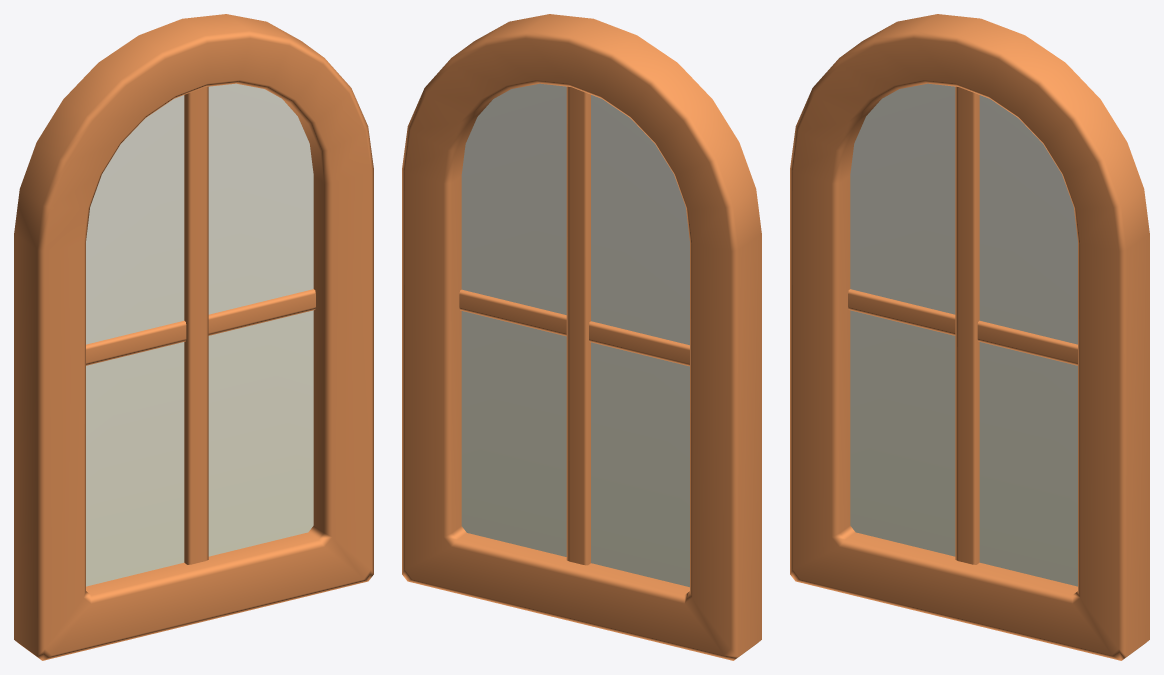
File: Furniture_WallDecoration_15.fbx
The picture shows the model from 3 angles, left to right: view 1: azimuth 30°, elevation 25°; view 2: azimuth 150°, elevation 25°; view 3: azimuth 330°, elevation 25°; orthographic projection.
Parts seen in each view (by area): view 1: Furniture_WallDecoration_15; view 2: Furniture_WallDecoration_15; view 3: Furniture_WallDecoration_15.
Boxes of the visible parts, x1,y1,x2,y2 form: Furniture_WallDecoration_15: (14, 14, 373, 660); Furniture_WallDecoration_15: (402, 14, 761, 660); Furniture_WallDecoration_15: (790, 14, 1149, 660).
Size of the model in its own units: 150 by 248 by 21.6.
